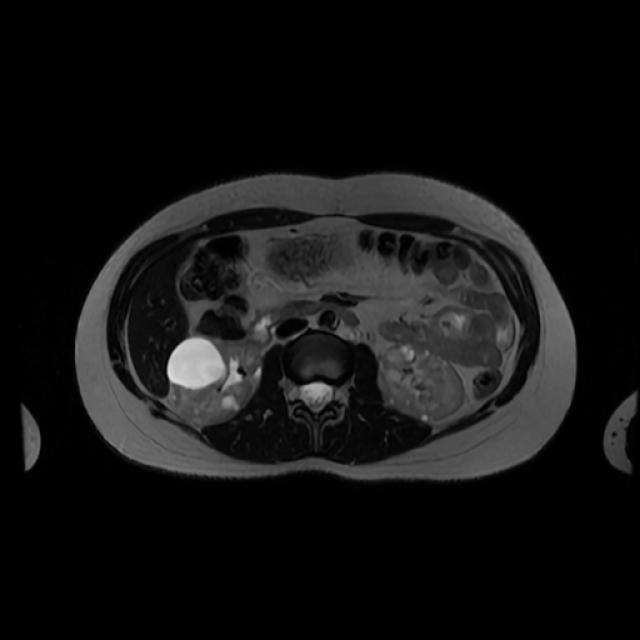sag: (165, 333, 262, 426)
sol: (378, 343, 465, 422)
